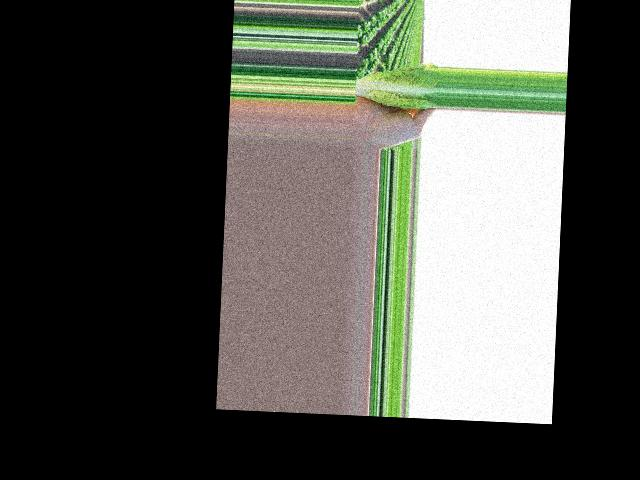lettuce: (329, 35, 422, 148)
